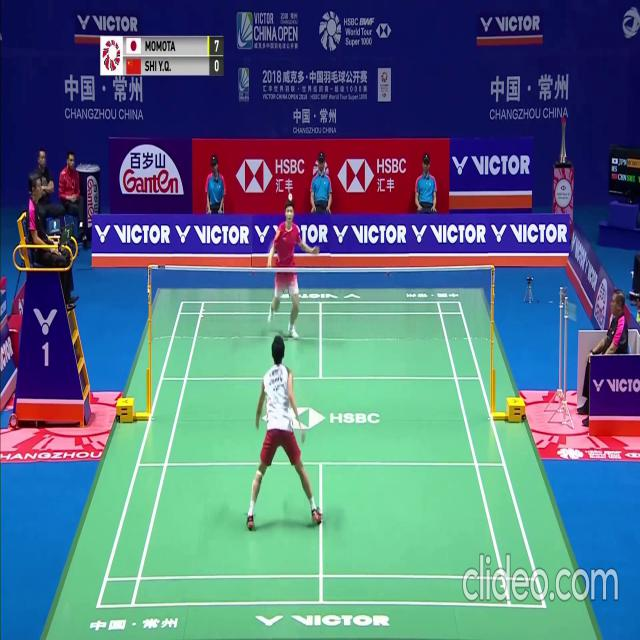Shuttlecock: (287, 192, 292, 200)
